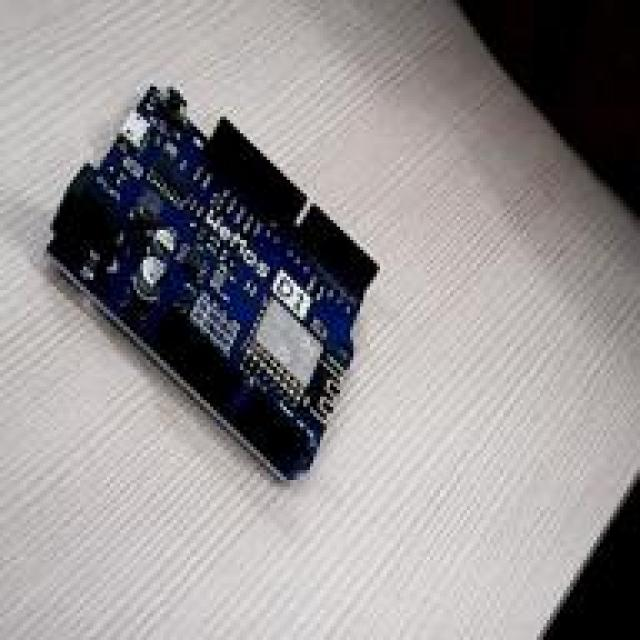Wemos: (48, 84, 378, 478)
